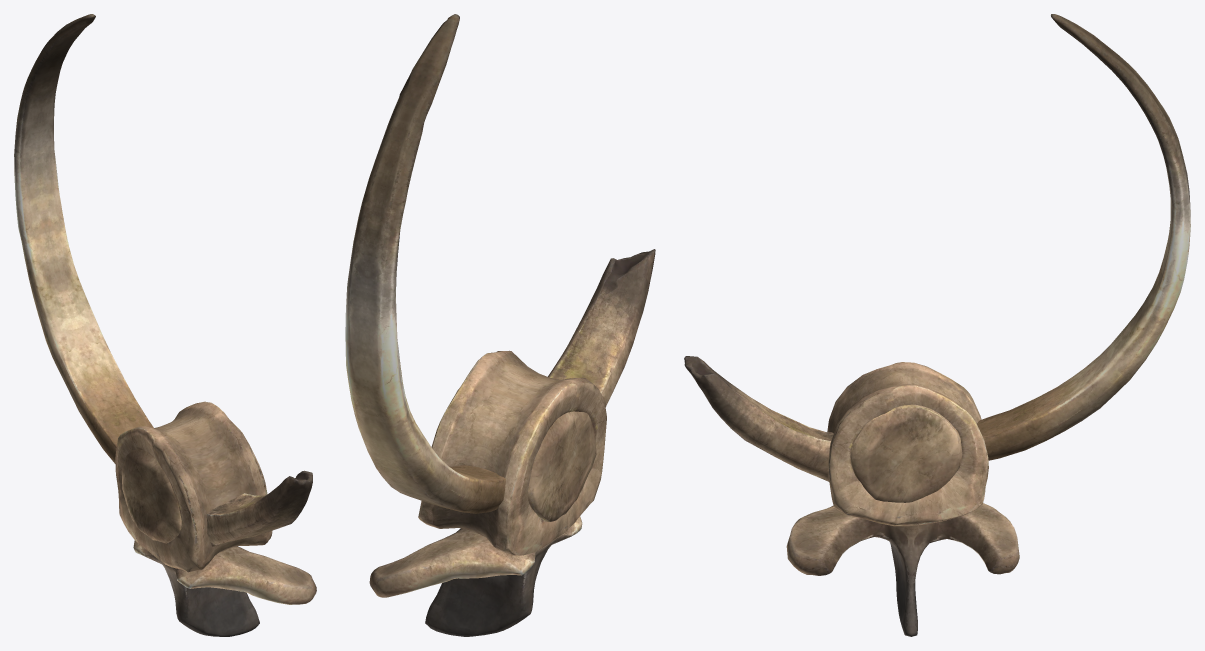
3 renders of one model, left to right at view 1: azimuth 30°, elevation 25°; view 2: azimuth 150°, elevation 25°; view 3: azimuth 270°, elevation 25°, orthographic. The views are drawn at different scales.
Parts seen in each view (by area): view 1: SM_Dragon_Rib_Bones_Single_02_LOD0; view 2: SM_Dragon_Rib_Bones_Single_02_LOD0; view 3: SM_Dragon_Rib_Bones_Single_02_LOD0.
Part boxes in pixels (x1,y1,x2,y2): SM_Dragon_Rib_Bones_Single_02_LOD0: (14,14,316,636); SM_Dragon_Rib_Bones_Single_02_LOD0: (345,14,655,636); SM_Dragon_Rib_Bones_Single_02_LOD0: (684,14,1190,636).
Size of the model in its own units: 5.95 by 26.47 by 20.93.
4 materials, 4 textured.
